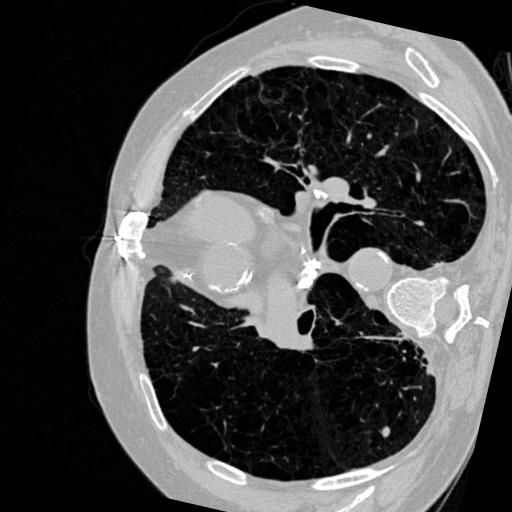nodule: (377, 425, 394, 442)
